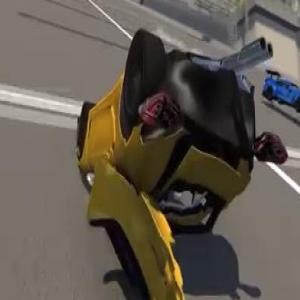critical: (74, 35, 286, 300)
